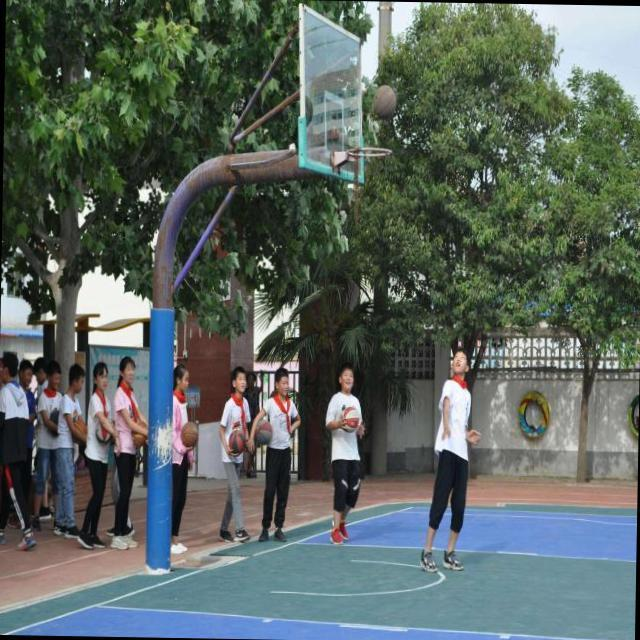ball: (373, 84, 397, 119)
hoop: (347, 145, 396, 159)
